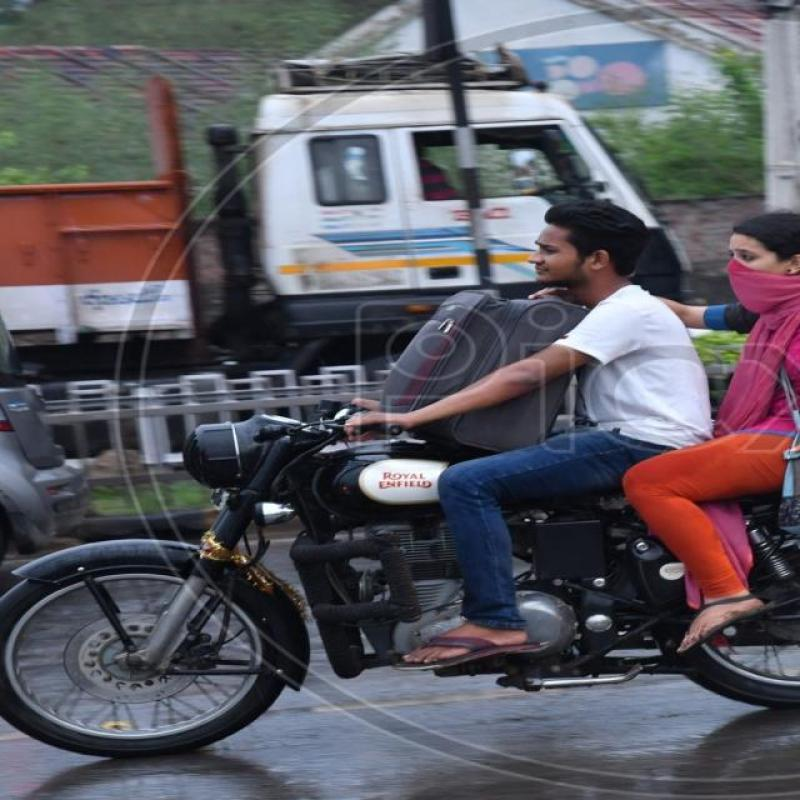nohelmet: (526, 199, 636, 295), (705, 217, 800, 293)
